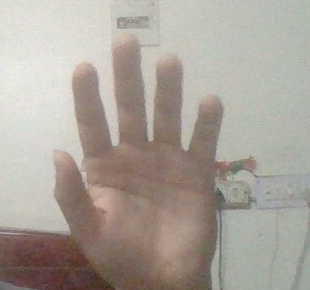move: (35, 32, 240, 275)
